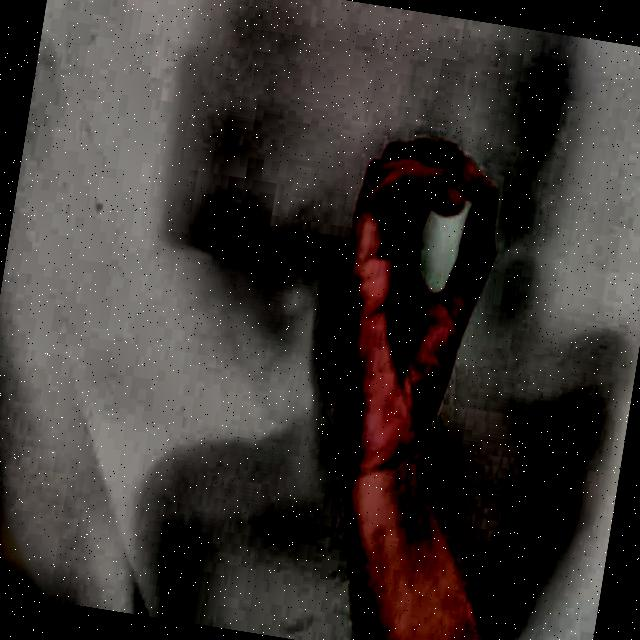O: (283, 111, 539, 497)
